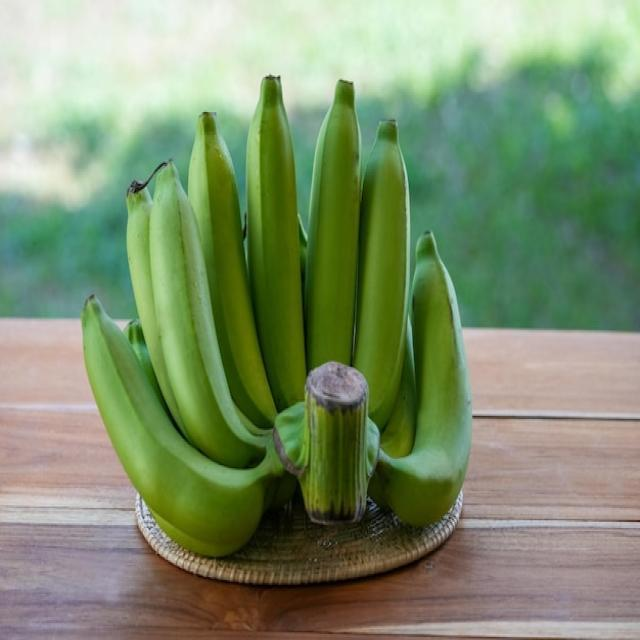Banana: (80, 60, 476, 566)
